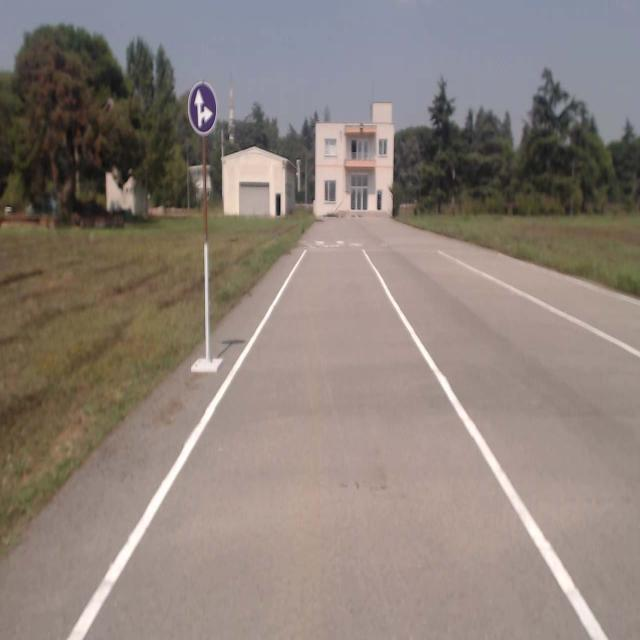ilerisag: (188, 80, 216, 133)
